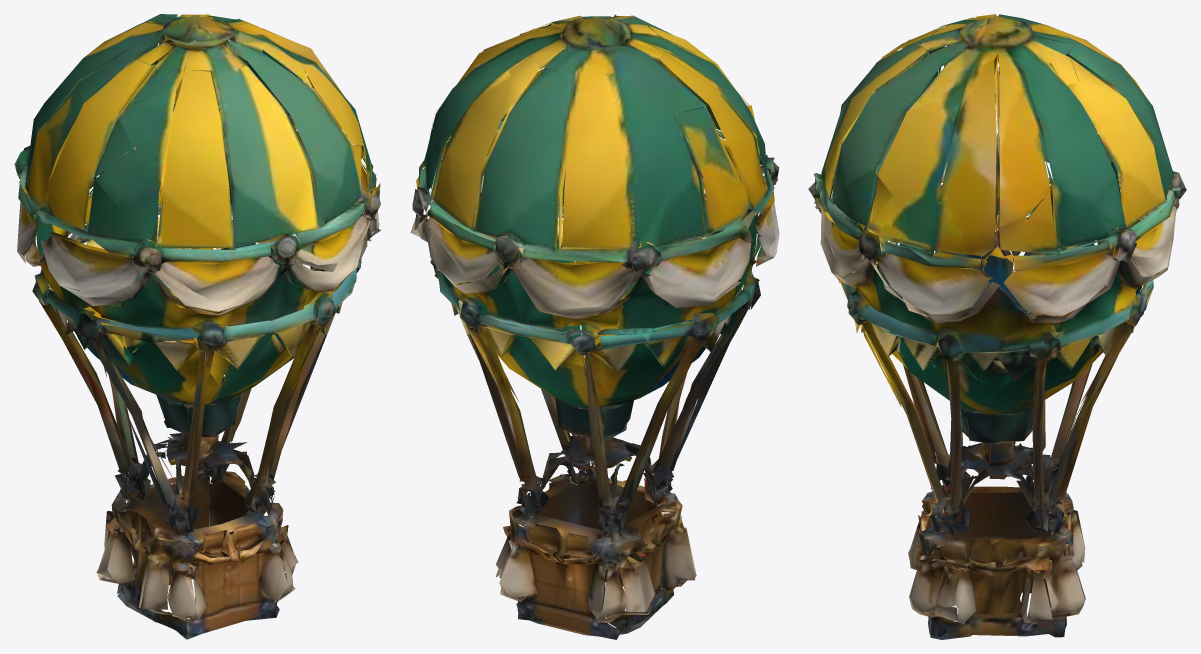
File: balloon_gen_c.glb
3 views of the same model, side by side, from view 1: azimuth 30°, elevation 25°; view 2: azimuth 150°, elevation 25°; view 3: azimuth 270°, elevation 25° (orthographic).
Visible parts, largest first — view 1: balloon_gen.002; view 2: balloon_gen.002; view 3: balloon_gen.002.
Boxes of the visible parts, x1,y1,x2,y2 form: balloon_gen.002: (14,14,380,639); balloon_gen.002: (410,14,779,639); balloon_gen.002: (808,14,1186,639).
Bounding box in the file's own units: 9.18 × 15.97 × 9.15.
1 material, 1 textured.
